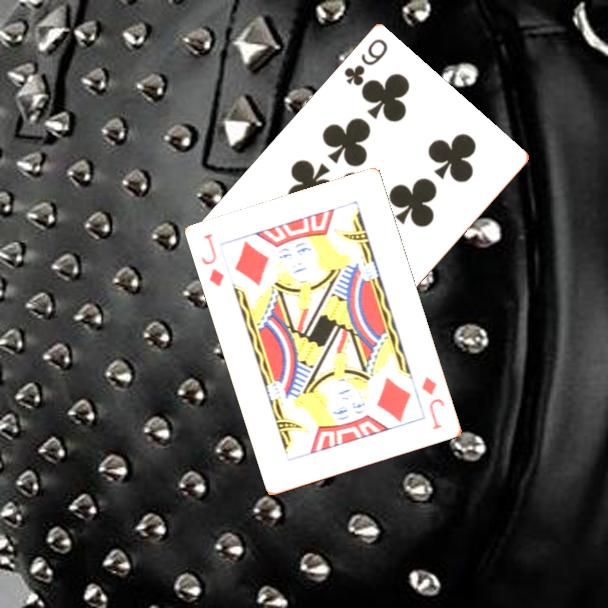c09: (340, 35, 391, 89)
d11: (418, 373, 448, 433), (198, 230, 227, 290)
